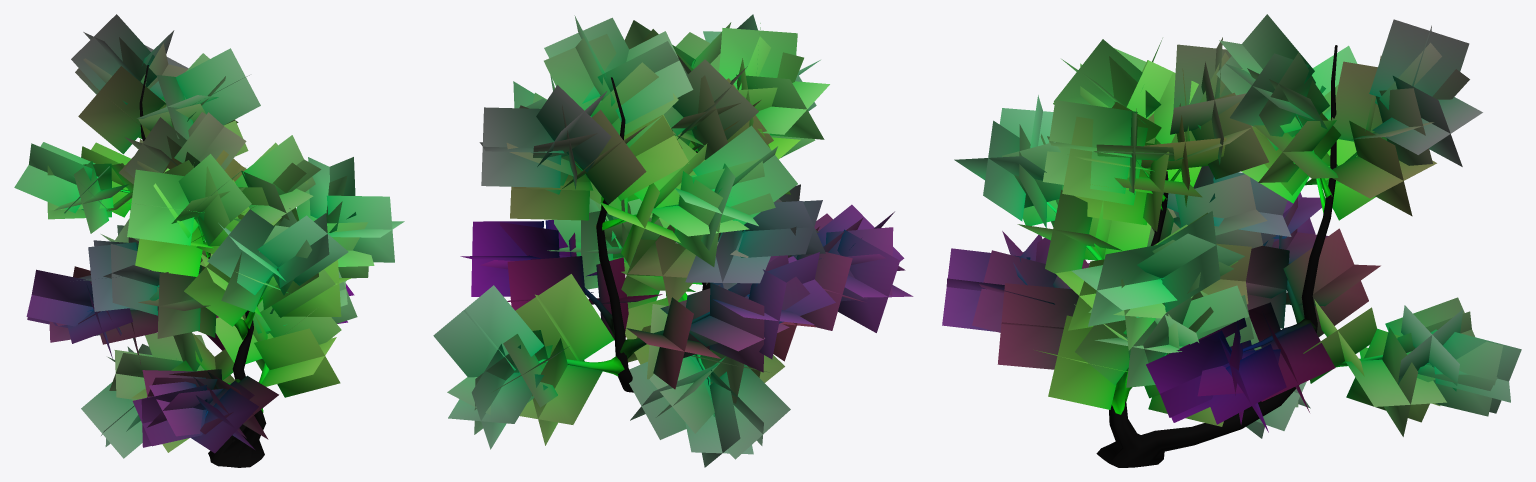
The model's file is M_P3_Tree_8.fbx.
3 renders of one model, left to right at view 1: azimuth 30°, elevation 25°; view 2: azimuth 150°, elevation 25°; view 3: azimuth 270°, elevation 25°, orthographic. The views are drawn at different scales.
Parts seen in each view (by area): view 1: Tree_8; view 2: Tree_8; view 3: Tree_8.
Boxes of the visible parts, x1,y1,x2,y2 form: Tree_8: [14, 14, 404, 467]; Tree_8: [433, 14, 913, 467]; Tree_8: [942, 14, 1521, 467].
Size of the model in its own units: 606 by 670 by 782.
